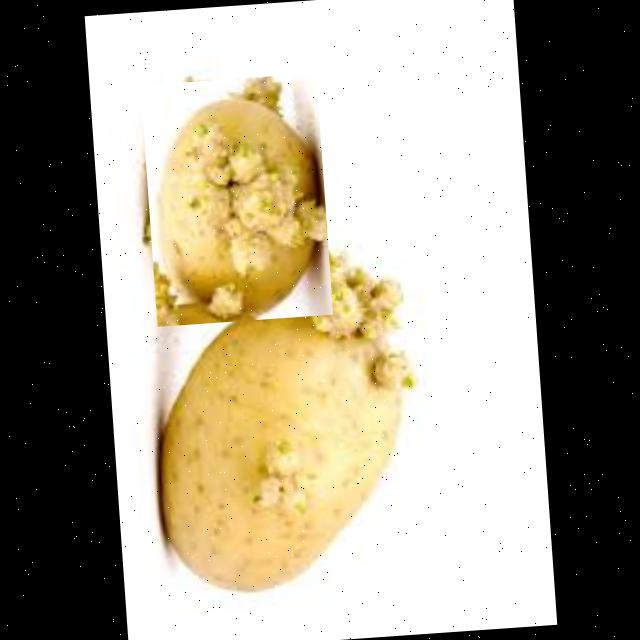Sprouted potato: (146, 270, 434, 600), (140, 72, 332, 326)
